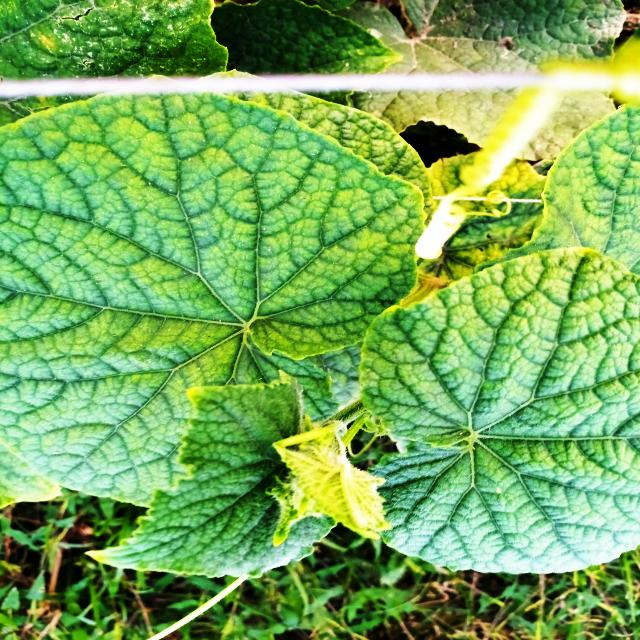Fresh-Leaf: (361, 250, 640, 574), (86, 369, 335, 577)
